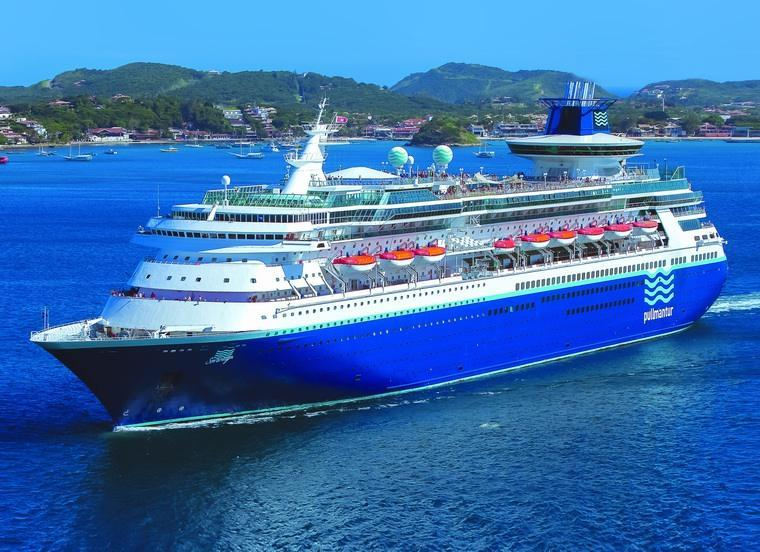youlun: (19, 68, 731, 430)
